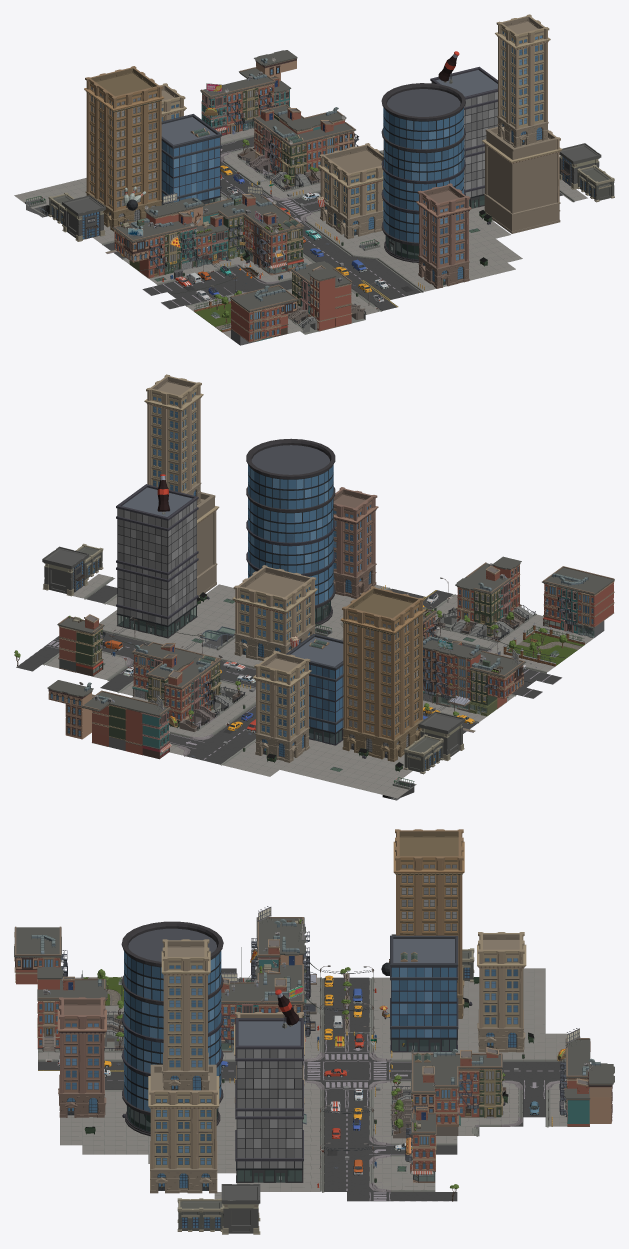
3 views of the same model, one above another, from view 1: azimuth 30°, elevation 25°; view 2: azimuth 150°, elevation 25°; view 3: azimuth 270°, elevation 25° (orthographic). The views are drawn at different scales.
Visible parts, largest first — view 1: SM_Bld_OfficeOld_Large_03, SM_Bld_OfficeOld_Small_02, SM_Bld_OfficeOld_Large_Roof_01 (×2), SM_Bld_OfficeRound_Roof_04, SM_Bld_OfficeRound_04, SM_Bld_OfficeRound_05, SM_Bld_OfficeSquare_01, SM_Bld_OfficeSquare_03, SM_Bld_Station_02, SM_Bld_OfficeSquare_02, SM_Bld_OfficeOld_Large_Floor_02 (×2), SM_Bld_OfficeOld_Large_Floor_03 (×2) (+35 smaller); view 2: SM_Bld_OfficeSquare_01, SM_Bld_OfficeOld_Large_Roof_01 (×2), SM_Bld_OfficeOld_Small_01, SM_Bld_OfficeOld_Small_02, SM_Bld_OfficeRound_Roof_04, SM_Bld_OfficeRound_04, SM_Bld_OfficeRound_05, SM_Bld_OfficeRound_03, SM_Bld_OfficeOld_Large_03, SM_Bld_OfficeOld_Large_Floor_01 (×2), SM_Bld_OfficeOld_Large_Floor_02 (×2), SM_Bld_Station_07 (+30 smaller); view 3: SM_Bld_OfficeOld_Large_03, SM_Bld_OfficeSquare_01, SM_Bld_OfficeOld_Small_02, SM_Bld_OfficeOld_Small_01, SM_Bld_OfficeOld_Large_Roof_01, SM_Bld_OfficeRound_Roof_04, SM_Bld_OfficeSquare_03, SM_Bld_OfficeSquare_02, SM_Bld_OfficeSquare_Roof_01, SM_Bld_OfficeSquare_Roof_03, SM_Bld_Station_07, SM_Bld_OfficeRound_04 (+23 smaller).
Boxes of the visible parts, x1=… form: SM_Bld_OfficeOld_Large_03: x1=482, y1=126, x2=562, y2=233; SM_Bld_OfficeOld_Small_02: x1=416, y1=183, x2=471, y2=288; SM_Bld_OfficeOld_Large_Roof_01 (×2): x1=84, y1=66, x2=383, y2=189; SM_Bld_OfficeRound_Roof_04: x1=381, y1=83, x2=465, y2=121; SM_Bld_OfficeRound_04: x1=383, y1=139, x2=464, y2=180; SM_Bld_OfficeRound_05: x1=383, y1=107, x2=463, y2=149; SM_Bld_OfficeSquare_01: x1=431, y1=82, x2=497, y2=197; SM_Bld_OfficeSquare_03: x1=161, y1=137, x2=220, y2=177; SM_Bld_Station_02: x1=62, y1=195, x2=105, y2=241; SM_Bld_OfficeSquare_02: x1=161, y1=166, x2=220, y2=203; SM_Bld_OfficeOld_Large_Floor_02 (×2): x1=86, y1=172, x2=382, y2=208; SM_Bld_OfficeOld_Large_Floor_03 (×2): x1=86, y1=162, x2=383, y2=198; SM_Bld_OfficeSquare_01: x1=117, y1=500, x2=196, y2=625; SM_Bld_OfficeOld_Large_Roof_01 (×2): x1=232, y1=565, x2=425, y2=634; SM_Bld_OfficeOld_Small_01: x1=252, y1=651, x2=311, y2=762; SM_Bld_OfficeOld_Small_02: x1=333, y1=487, x2=378, y2=598; SM_Bld_OfficeRound_Roof_04: x1=246, y1=438, x2=335, y2=479; SM_Bld_OfficeRound_04: x1=248, y1=498, x2=333, y2=542; SM_Bld_OfficeRound_05: x1=248, y1=464, x2=333, y2=509; SM_Bld_OfficeRound_03: x1=248, y1=531, x2=333, y2=573; SM_Bld_OfficeOld_Large_03: x1=197, y1=492, x2=219, y2=597; SM_Bld_OfficeOld_Large_Floor_01 (×2): x1=235, y1=614, x2=422, y2=740; SM_Bld_OfficeOld_Large_Floor_02 (×2): x1=235, y1=603, x2=422, y2=729; SM_Bld_Station_07: x1=42, y1=546, x2=88, y2=596; SM_Bld_OfficeOld_Large_03: x1=148, y1=1064, x2=219, y2=1193; SM_Bld_OfficeSquare_01: x1=236, y1=1049, x2=302, y2=1168; SM_Bld_OfficeOld_Small_02: x1=57, y1=997, x2=106, y2=1117; SM_Bld_OfficeOld_Small_01: x1=477, y1=932, x2=526, y2=1052; SM_Bld_OfficeOld_Large_Roof_01: x1=393, y1=829, x2=464, y2=874; SM_Bld_OfficeRound_Roof_04: x1=121, y1=921, x2=223, y2=966; SM_Bld_OfficeSquare_03: x1=391, y1=966, x2=457, y2=1002; SM_Bld_OfficeSquare_02: x1=391, y1=1002, x2=457, y2=1037; SM_Bld_OfficeSquare_Roof_01: x1=235, y1=1018, x2=303, y2=1049; SM_Bld_OfficeSquare_Roof_03: x1=390, y1=935, x2=458, y2=966; SM_Bld_Station_07: x1=221, y1=1184, x2=260, y2=1234; SM_Bld_OfficeRound_04: x1=124, y1=989, x2=221, y2=1038.
Size of the model in its own units: 143 by 64.15 by 136.
15 materials, 12 textured.
